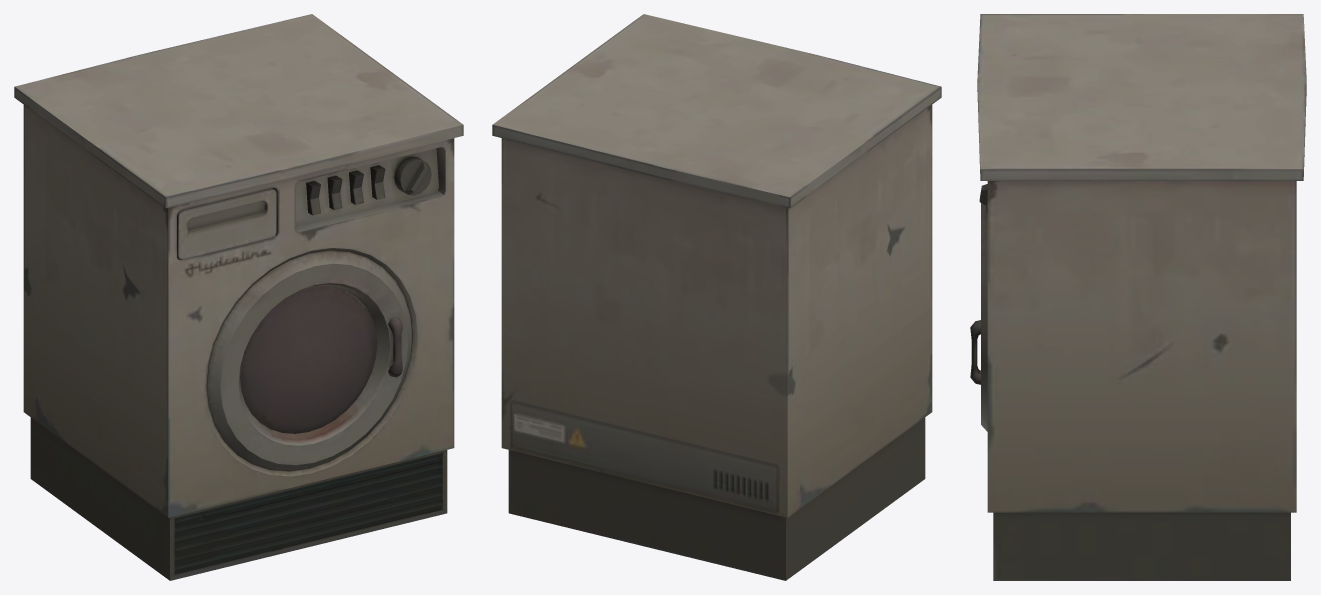
3 views of the same model, side by side, from view 1: azimuth 30°, elevation 25°; view 2: azimuth 150°, elevation 25°; view 3: azimuth 270°, elevation 25° (orthographic). The views are drawn at different scales.
Parts seen in each view (by area): view 1: body0_model0_lod0_mesh0; view 2: body0_model0_lod0_mesh0; view 3: body0_model0_lod0_mesh0.
Boxes of the visible parts, <box> form: body0_model0_lod0_mesh0: <box>14,14,463,580</box>; body0_model0_lod0_mesh0: <box>492,14,941,580</box>; body0_model0_lod0_mesh0: <box>970,14,1306,580</box>.
Bounding box in the file's own units: 46.63 × 58.41 × 42.69.
Materials: 1 (1 with a texture image).
